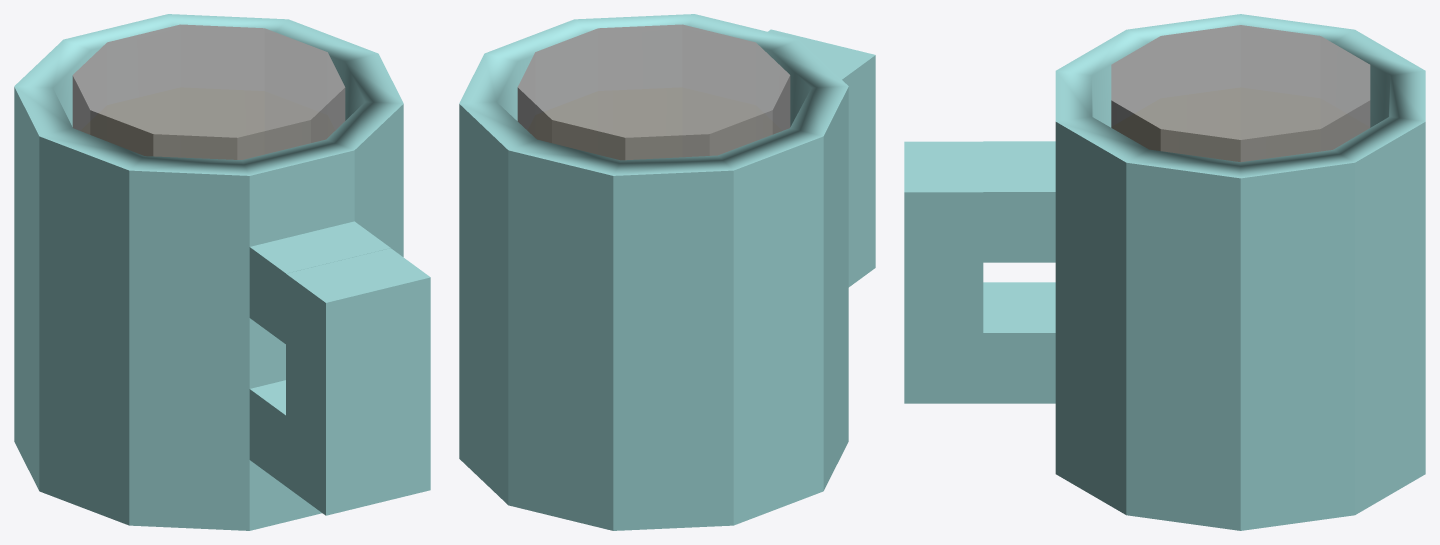
The model's file is PintFull.fbx.
The picture shows the model from 3 angles, left to right: view 1: azimuth 30°, elevation 25°; view 2: azimuth 150°, elevation 25°; view 3: azimuth 270°, elevation 25°; orthographic projection.
Visible parts, largest first — view 1: pCylinder1, pCylinder2; view 2: pCylinder1, pCylinder2; view 3: pCylinder1, pCylinder2.
Boxes of the visible parts, x1=… form: pCylinder1: x1=14, y1=14, x2=430, y2=530; pCylinder2: x1=72, y1=24, x2=345, y2=159; pCylinder1: x1=459, y1=14, x2=875, y2=530; pCylinder2: x1=517, y1=24, x2=790, y2=160; pCylinder1: x1=904, y1=14, x2=1425, y2=530; pCylinder2: x1=1111, y1=25, x2=1370, y2=162.
Bounding box in the file's own units: 2 × 2.08 × 2.68.
